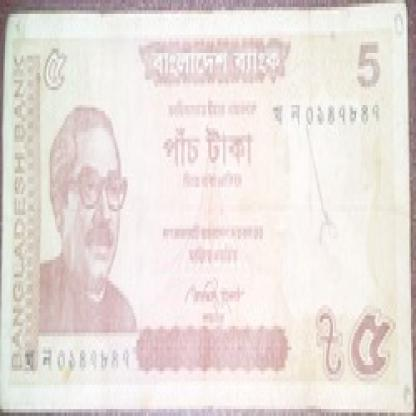Five Taka: (156, 111, 256, 180), (346, 294, 399, 392), (348, 31, 384, 97), (36, 45, 72, 97)
